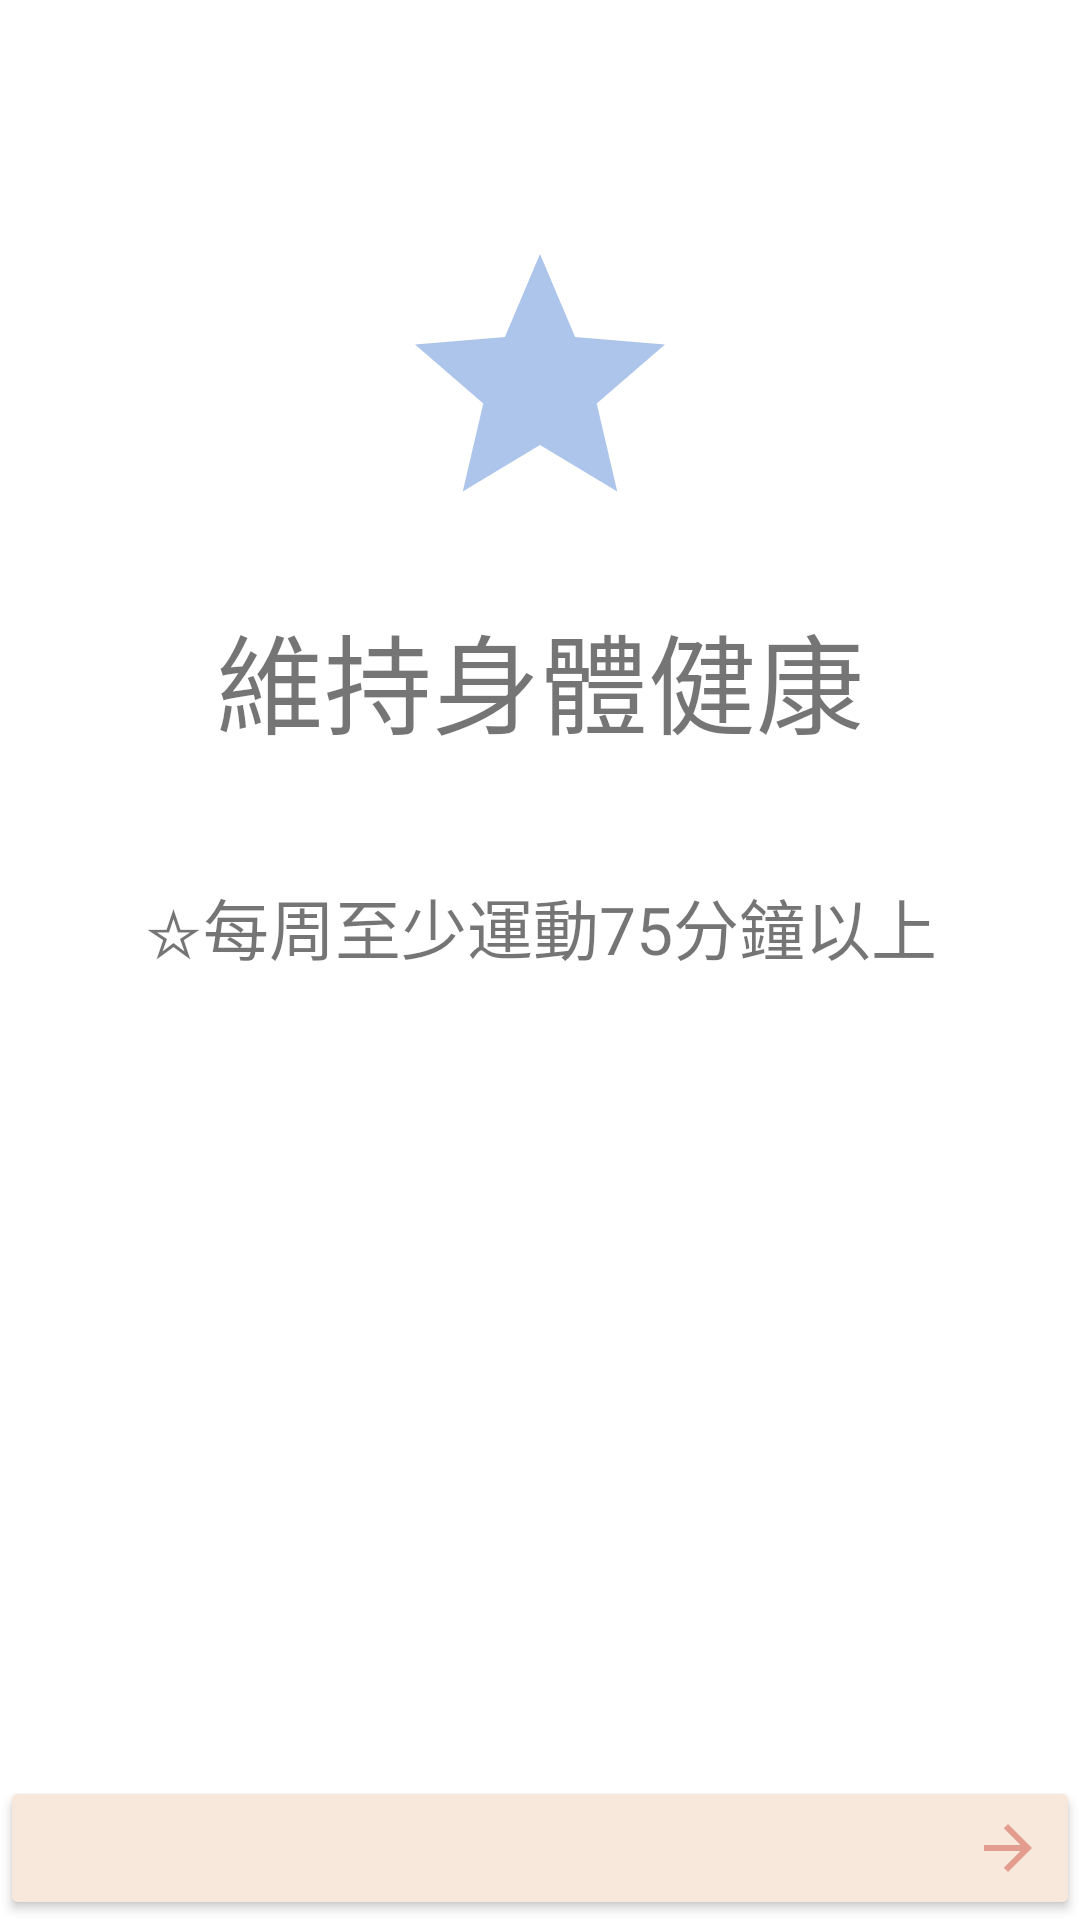

Icon click points for this 1080 × 1920 phone screenshot, format (x,y):
star: (540,373)
